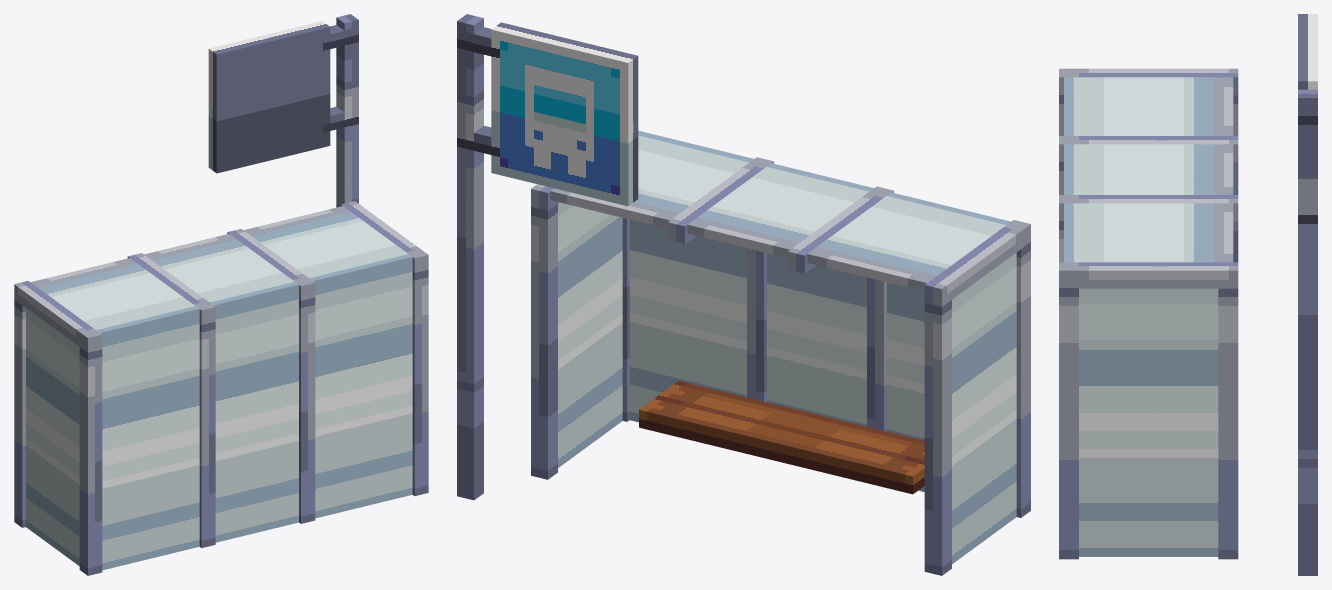
Rendered from bus-stop.gltf.
3 views of the same model, side by side, from view 1: azimuth 30°, elevation 25°; view 2: azimuth 150°, elevation 25°; view 3: azimuth 270°, elevation 25° (orthographic). The views are drawn at different scales.
Parts seen in each view (by area): view 1: cube (×18); view 2: cube (×21); view 3: cube (×20).
Part boxes in pixels (x1,y1,x2,y2): cube (×18): (14, 14, 428, 575); cube (×21): (457, 14, 1030, 575); cube (×20): (1059, 14, 1317, 575).
Size of the model in its own units: 3.25 by 3.31 by 1.62.
2 materials, 2 textured.
